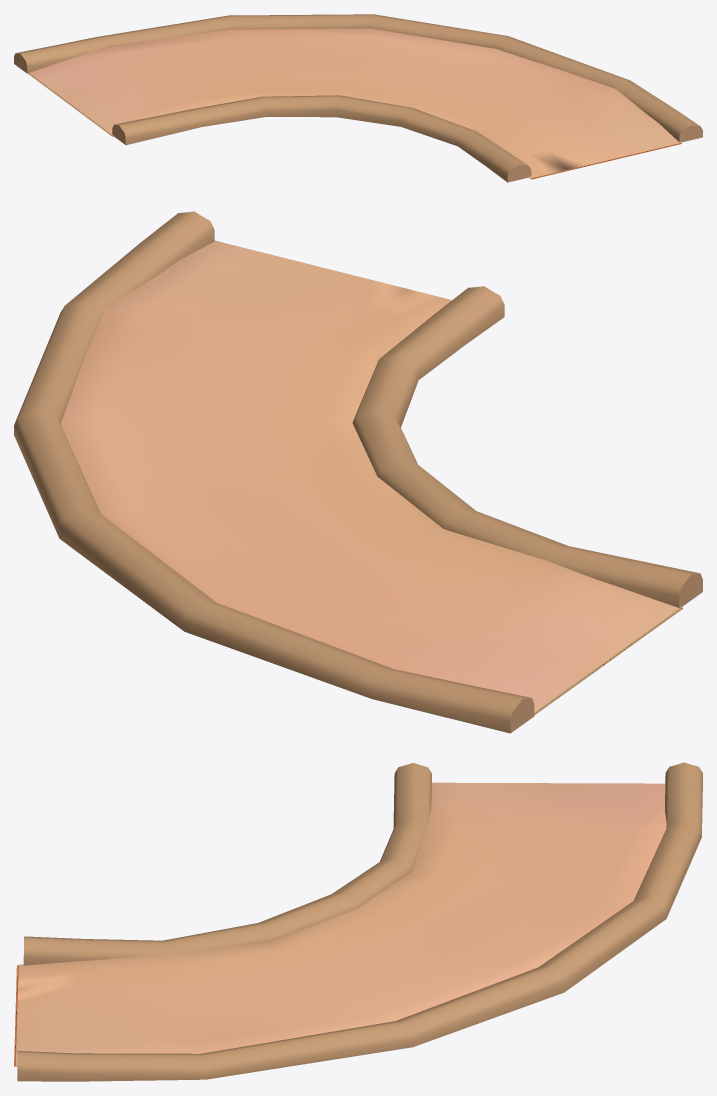
Rendered from DirtBikeSandTrackWithBarriersCurved.glb.
3 views of the same model, one above another, from view 1: azimuth 30°, elevation 25°; view 2: azimuth 150°, elevation 25°; view 3: azimuth 270°, elevation 25° (orthographic). The views are drawn at different scales.
Parts seen in each view (by area): view 1: DirtBikeSandTrackWithBarriersCurved; view 2: DirtBikeSandTrackWithBarriersCurved; view 3: DirtBikeSandTrackWithBarriersCurved.
Part boxes in pixels (box(x1,y1,x2,y2)): DirtBikeSandTrackWithBarriersCurved: box(14, 14, 702, 182); DirtBikeSandTrackWithBarriersCurved: box(14, 211, 702, 733); DirtBikeSandTrackWithBarriersCurved: box(14, 762, 702, 1081).
Bounding box in the file's own units: 11.83 × 0.3879 × 11.52.
1 material, 1 textured.
